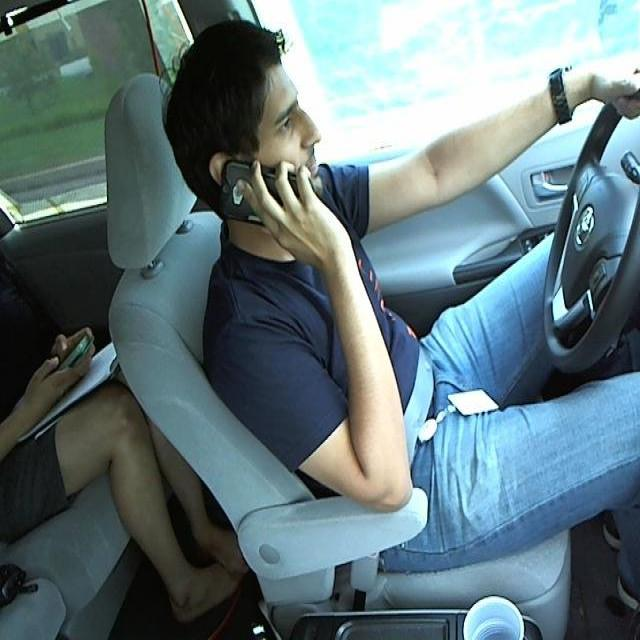using_phone: (132, 16, 408, 312)
